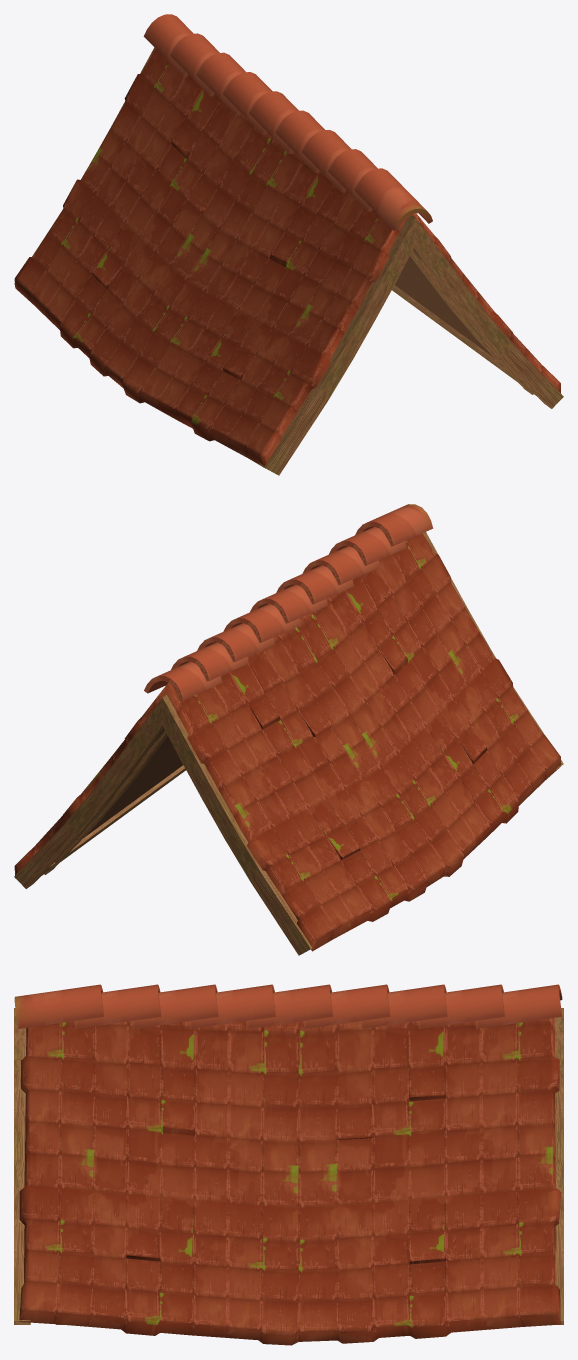
File: Roof_FlatTiles_4x6.gltf
3 views of the same model, one above another, from view 1: azimuth 30°, elevation 25°; view 2: azimuth 150°, elevation 25°; view 3: azimuth 270°, elevation 25° (orthographic). The views are drawn at different scales.
Parts seen in each view (by area): view 1: Roof_FlatTiles_4x6; view 2: Roof_FlatTiles_4x6; view 3: Roof_FlatTiles_4x6.
Part boxes in pixels (x1,y1,x2,y2): Roof_FlatTiles_4x6: [14, 14, 563, 475]; Roof_FlatTiles_4x6: [14, 504, 563, 955]; Roof_FlatTiles_4x6: [14, 984, 563, 1345].
Size of the model in its own units: 5.7 by 4.15 by 7.57.
3 materials, 3 textured.
